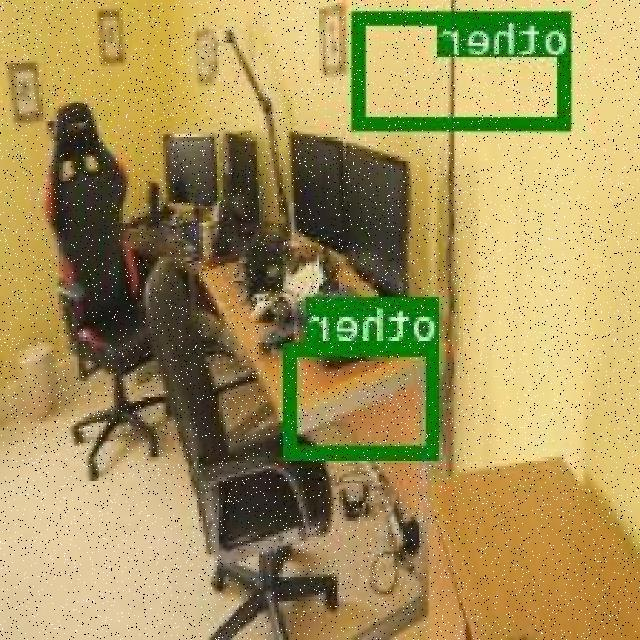other: (354, 9, 572, 126), (286, 340, 442, 457)
